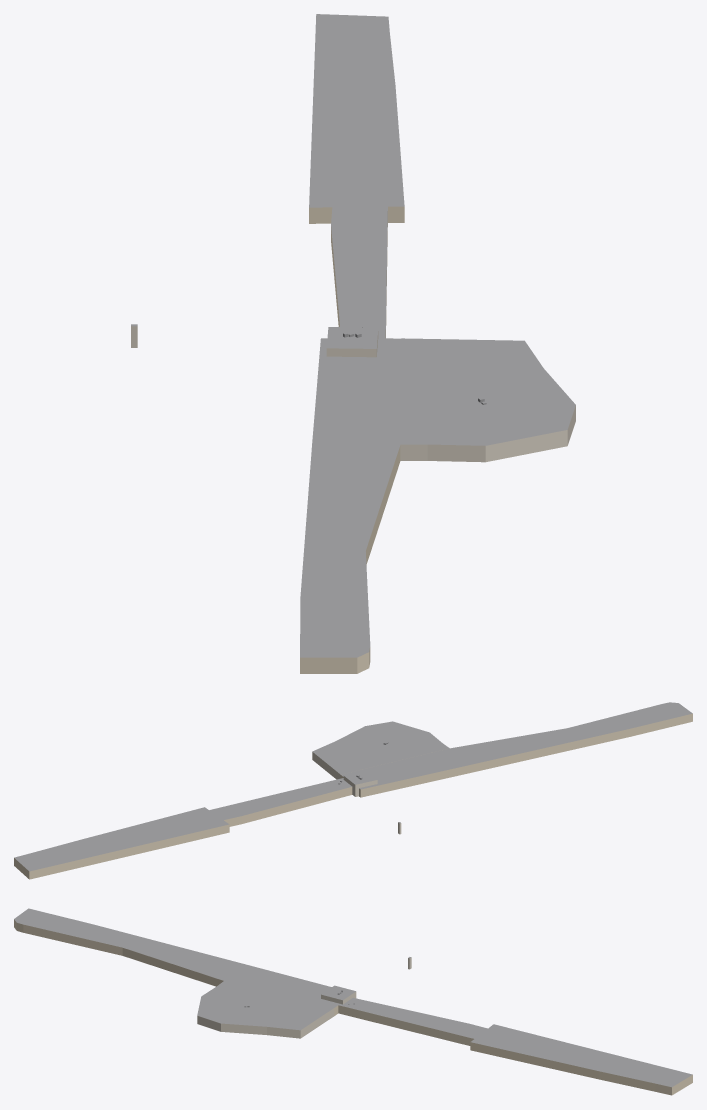
File: building_0_-5.glb
The picture shows the model from 3 angles, top to bottom: view 1: azimuth 30°, elevation 25°; view 2: azimuth 150°, elevation 25°; view 3: azimuth 270°, elevation 25°; orthographic projection. The views are drawn at different scales.
Visible parts, largest first — view 1: roof, concrete_warm, sandstone; view 2: roof, sandstone, concrete_warm; view 3: roof, sandstone, concrete_warm.
Part boxes in pixels (box(x1,y1,x2,y2)): roof: box(131, 14, 575, 657); concrete_warm: box(131, 326, 575, 462); sandstone: box(300, 206, 404, 673); roof: box(14, 702, 692, 871); sandstone: box(14, 713, 692, 879); concrete_warm: box(312, 750, 442, 834); roof: box(14, 908, 692, 1087); sandstone: box(14, 919, 692, 1095); concrete_warm: box(197, 957, 411, 1038).
Size of the model in its own units: 442 by 16.13 by 709.
